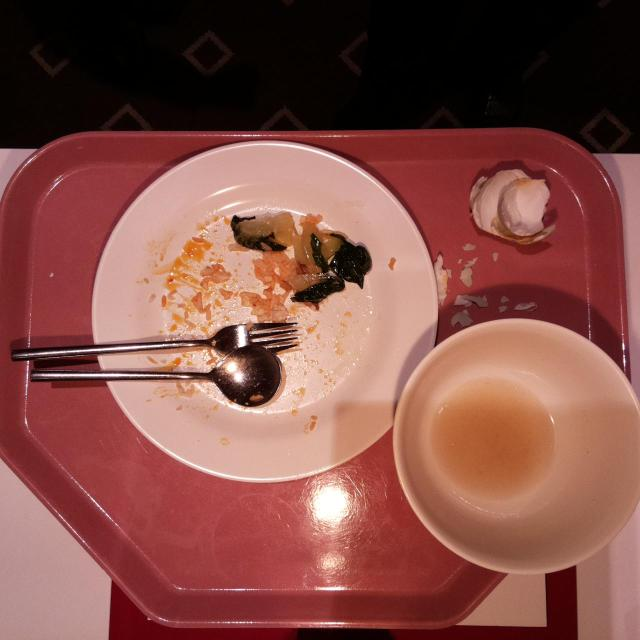Egg-shell: (467, 166, 553, 246)
Vegetable: (324, 230, 374, 290), (230, 212, 278, 254), (289, 276, 345, 308)
